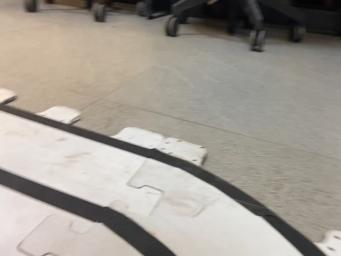street: (0, 110, 324, 256)
